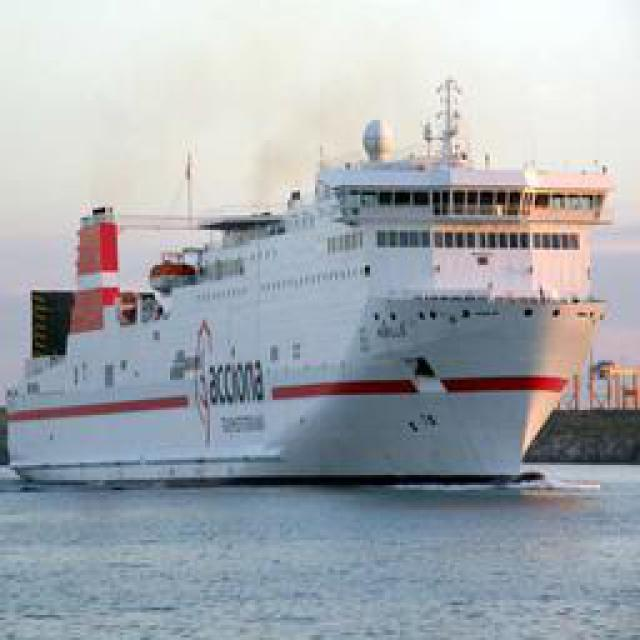Ship: (13, 92, 621, 495)
